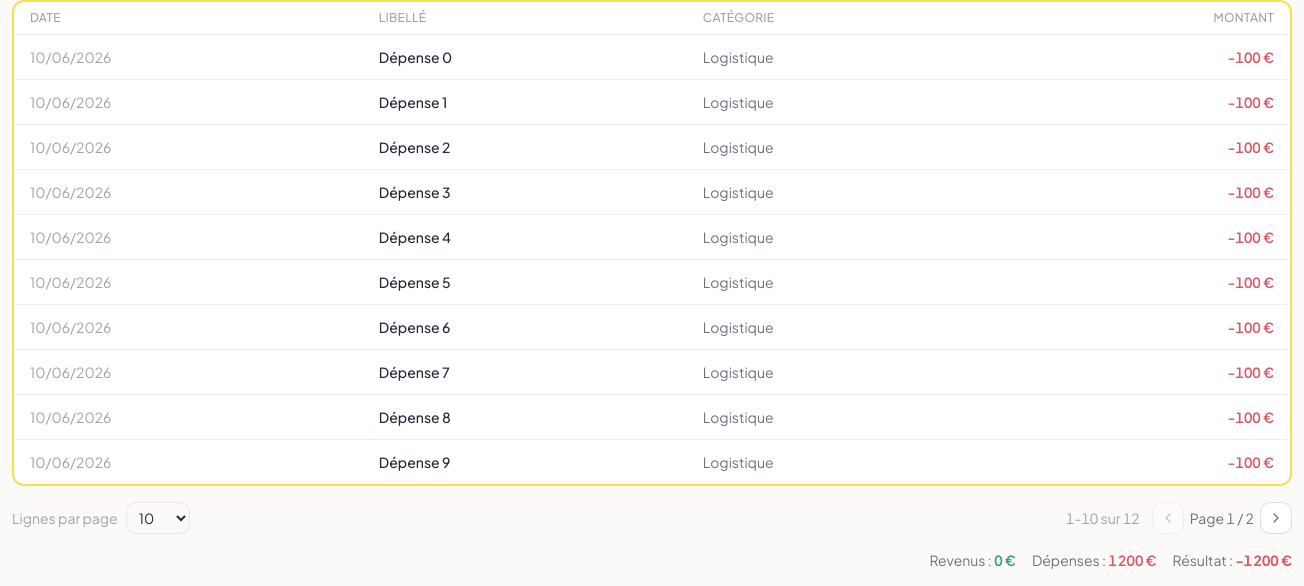
Test: MouvementListView › pagine au-delà de la taille de page et permet de naviguer
This screenshot has width=1304, height=586.
expect the text "1-10 sur 12" is shown: met, box left=1066, top=508, right=1140, bottom=528
expect the text "Dépense 0" is shown: met, box left=379, top=47, right=452, bottom=67
Click the button named "Page suivante": (1276, 518) left=1260, top=502, right=1292, bottom=534
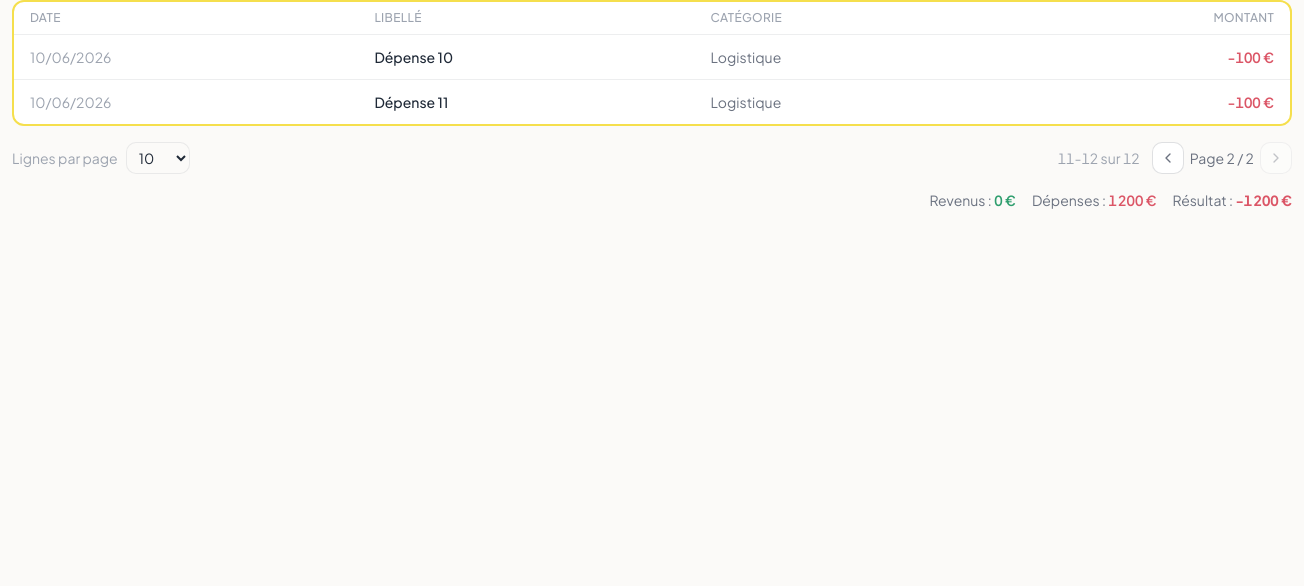
expect the text "11-12 sur 12" is shown: met, box left=1058, top=148, right=1140, bottom=168
expect the text "Dépense 10" is shown: met, box left=374, top=47, right=453, bottom=67
expect the text "Dépense 0" is gone: met
